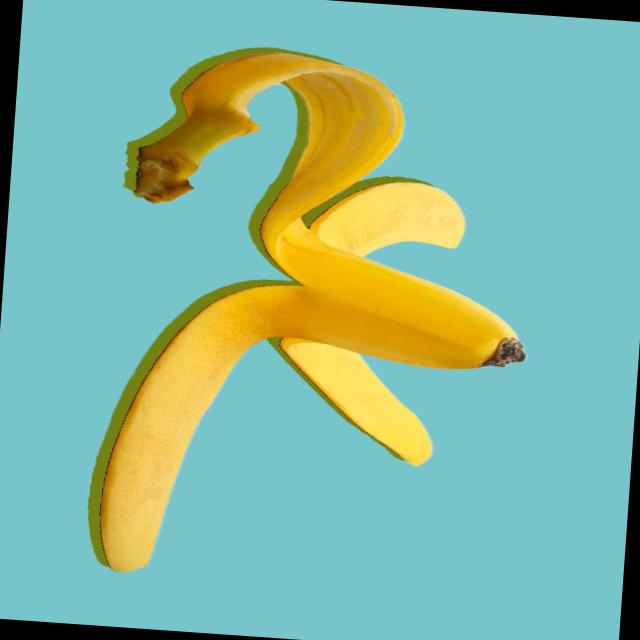banana_peel: (73, 35, 547, 588)
